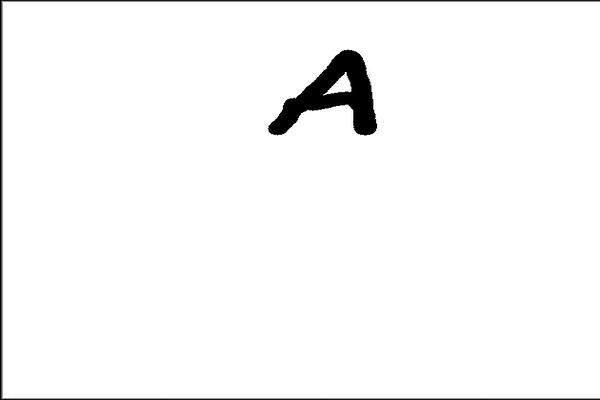A: (264, 48, 379, 147)
